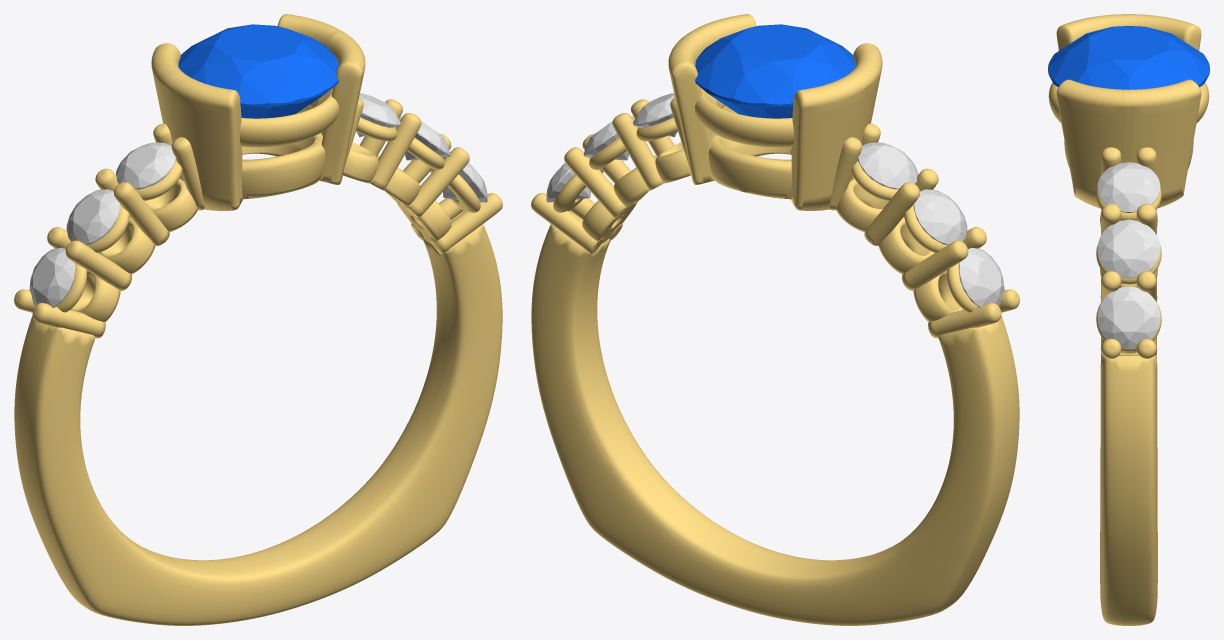
File: bluesapphire-round-yellowgold-halfmoonbezel-europeanshank-3stone.glb
3 renders of one model, left to right at view 1: azimuth 30°, elevation 25°; view 2: azimuth 150°, elevation 25°; view 3: azimuth 270°, elevation 25°, orthographic. The views are drawn at different scales.
Parts seen in each view (by area): view 1: metal, stone, side.004, side.005, side.003, side, side.001, side.002; view 2: metal, stone, side.004, side.005, side.003, side, side.001, side.002; view 3: metal, stone, side.002, side.001, side.
Boxes of the visible parts, x1,y1,x2,y2 form: metal: (14, 14, 502, 625); stone: (178, 24, 338, 118); side.004: (66, 189, 120, 244); side.005: (29, 247, 75, 307); side.003: (116, 142, 175, 189); side: (356, 93, 400, 137); side.001: (399, 116, 450, 160); side.002: (443, 157, 487, 202); metal: (531, 14, 1019, 625); stone: (695, 24, 855, 118); side.004: (913, 189, 967, 244); side.005: (958, 247, 1004, 307); side.003: (858, 142, 917, 189); side: (633, 93, 677, 137); side.001: (583, 116, 634, 160); side.002: (546, 157, 590, 202); metal: (1048, 14, 1209, 625); stone: (1048, 26, 1209, 89); side.002: (1097, 286, 1160, 348); side.001: (1097, 219, 1160, 278); side: (1097, 162, 1160, 212).
Bounding box in the file's own units: 20.71 × 23.81 × 6.44.
